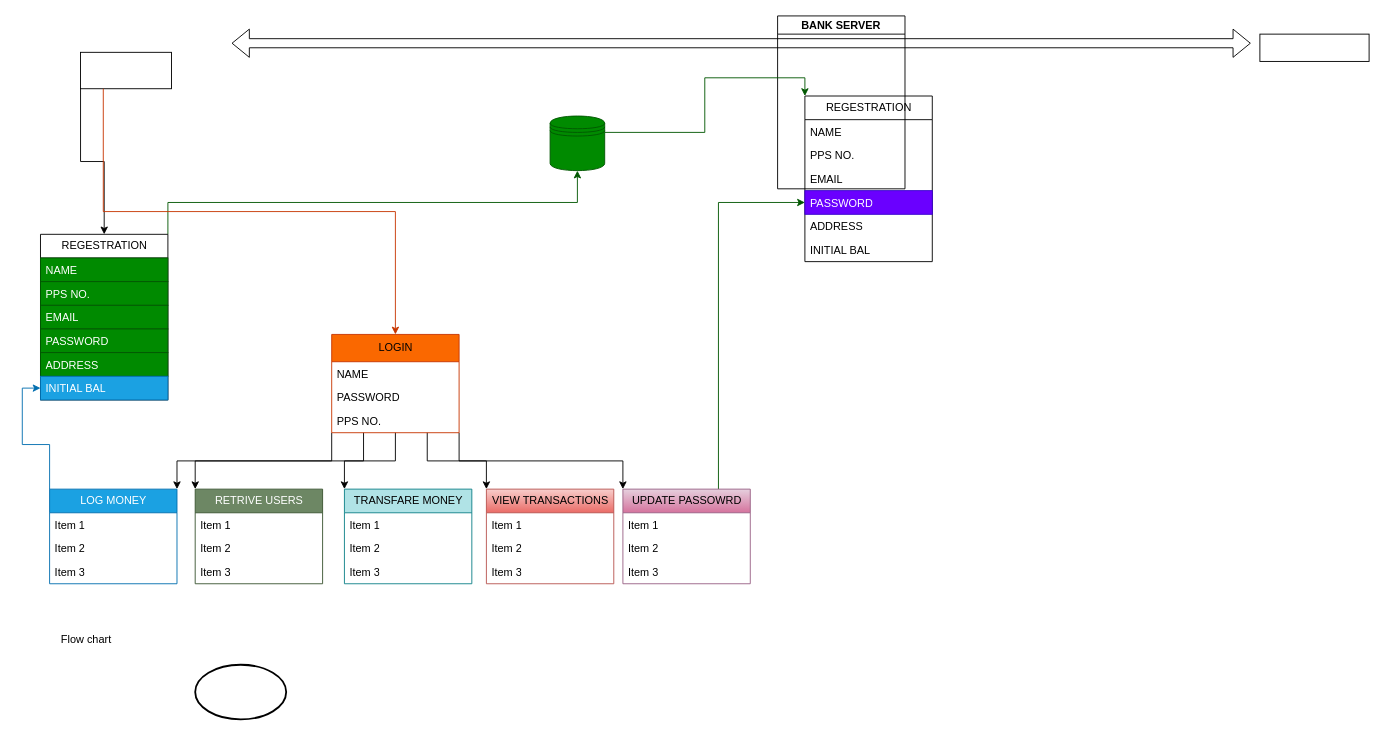
Image size: 1385x736. Some labels were removed from this diagram. Here are the shapes that lost their labels. From the top down, the centre of each, then its label:
[1314,47]: Client
[126,70]: Root
[240,691]: Client connects to server
